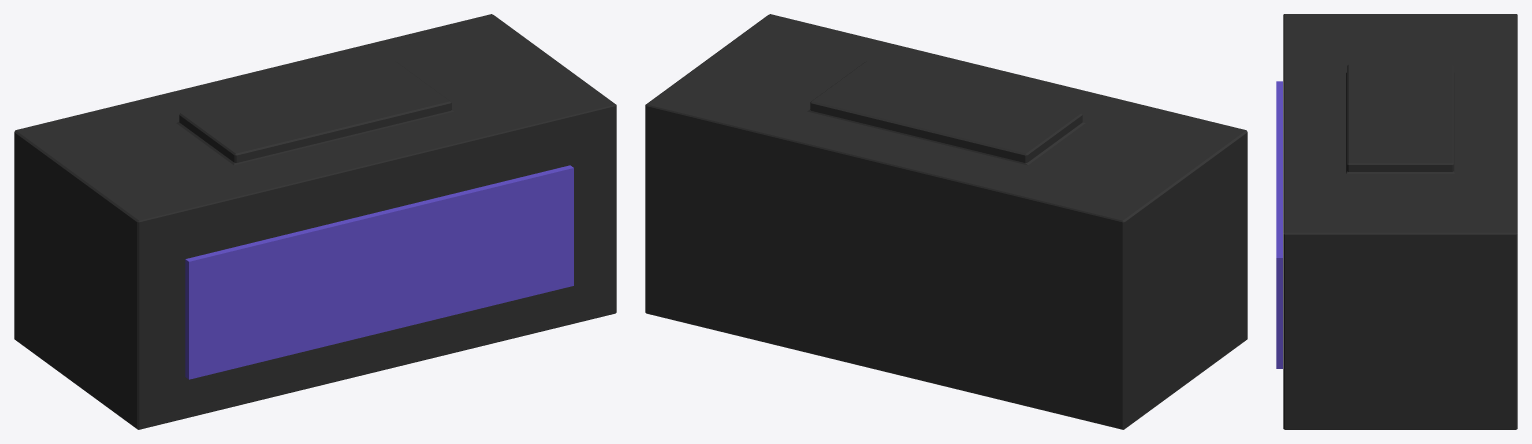
File: AlarmClock3.fbx
3 views of the same model, side by side, from view 1: azimuth 30°, elevation 25°; view 2: azimuth 150°, elevation 25°; view 3: azimuth 270°, elevation 25° (orthographic). The views are drawn at different scales.
Visible parts, largest first — view 1: Cube; view 2: Cube; view 3: Cube.
Boxes of the visible parts, left/top/right/bottom form: Cube: left=14, top=14, right=616, bottom=429; Cube: left=645, top=14, right=1247, bottom=429; Cube: left=1276, top=14, right=1517, bottom=429.
Size of the model in its own units: 445 by 194 by 206.
